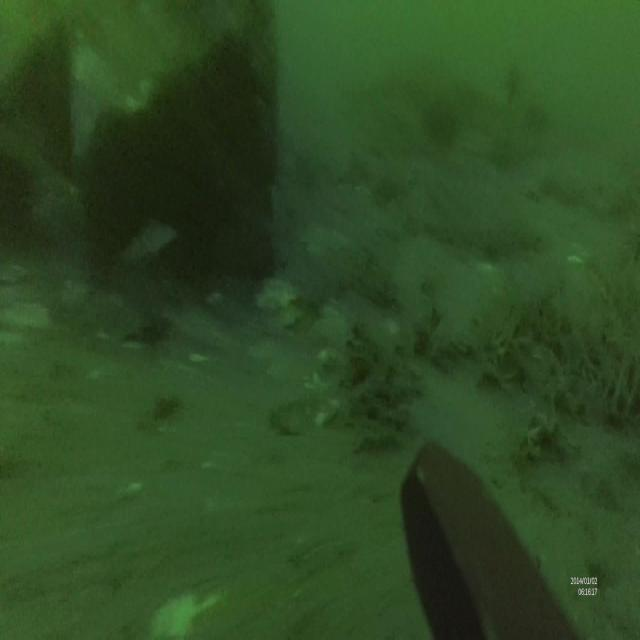starfish: (299, 216, 352, 264), (315, 302, 356, 356), (258, 274, 298, 315), (267, 300, 301, 338)
